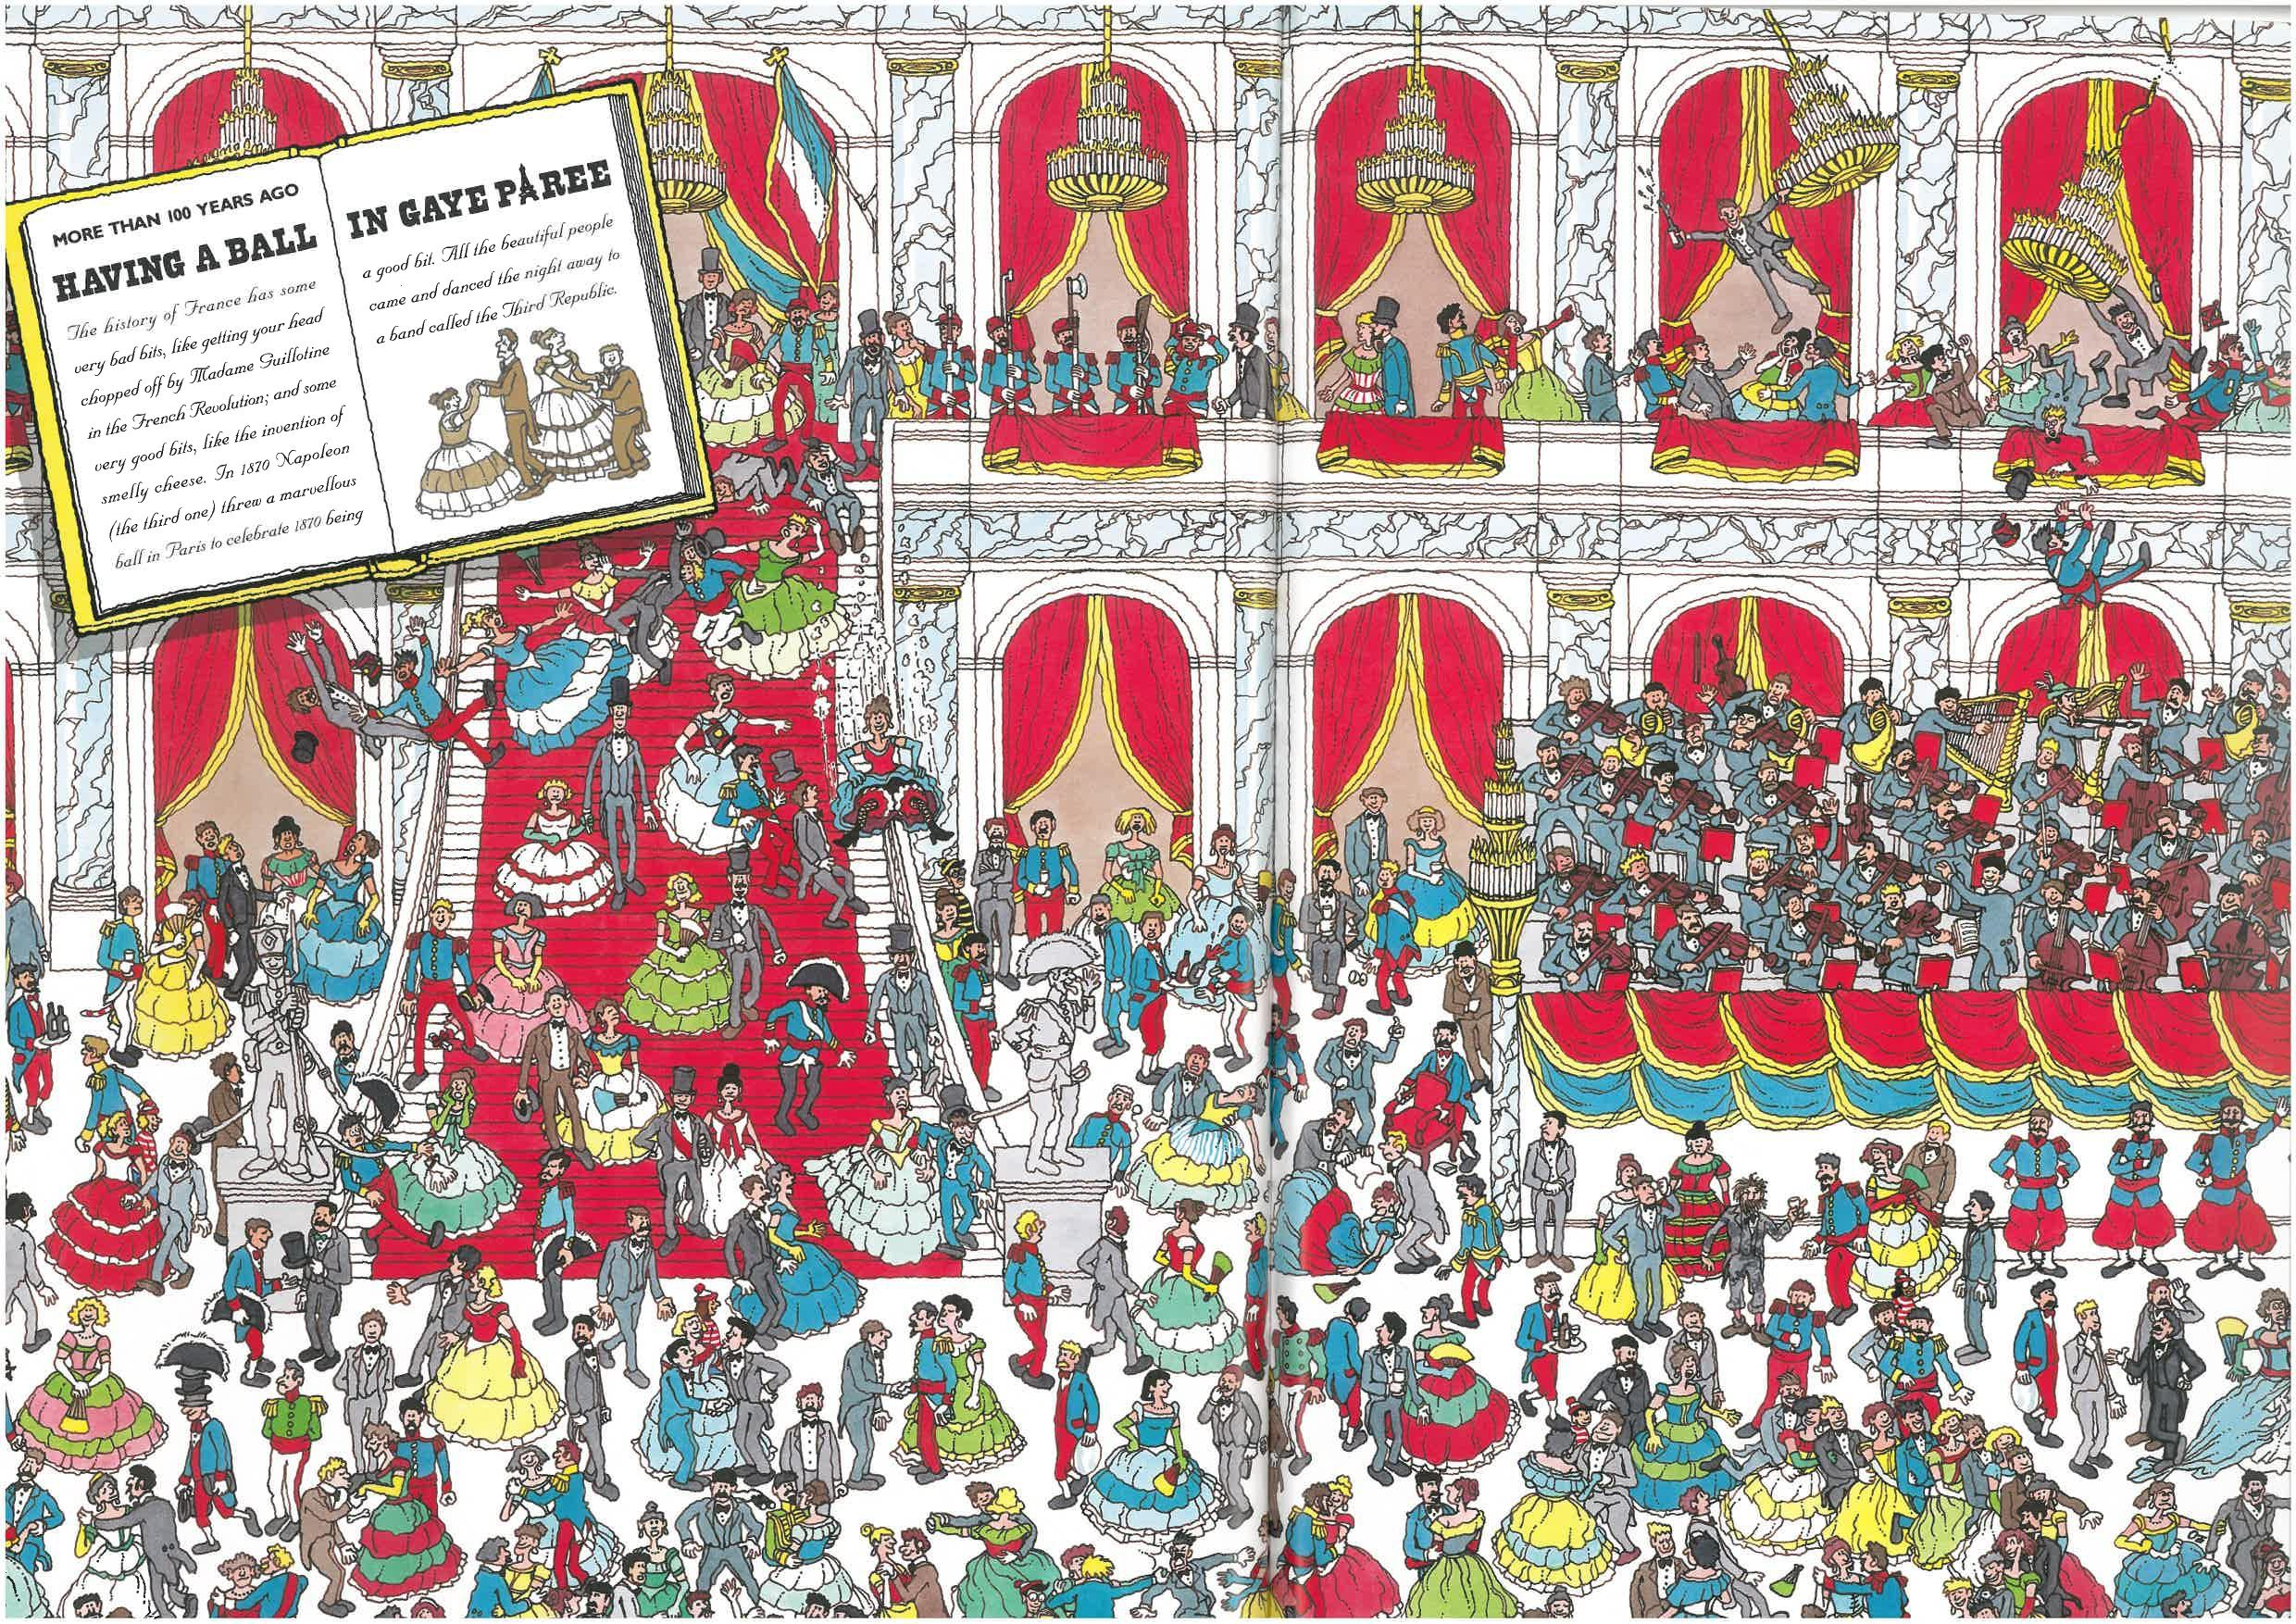waldos: (1012, 1571, 1059, 1615)
